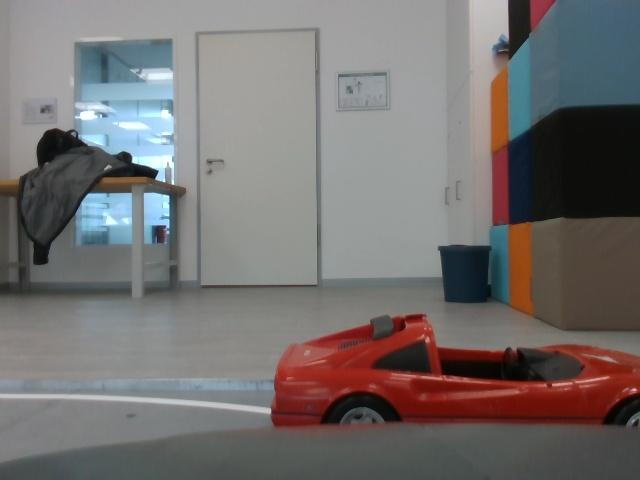car: (269, 304, 640, 456)
